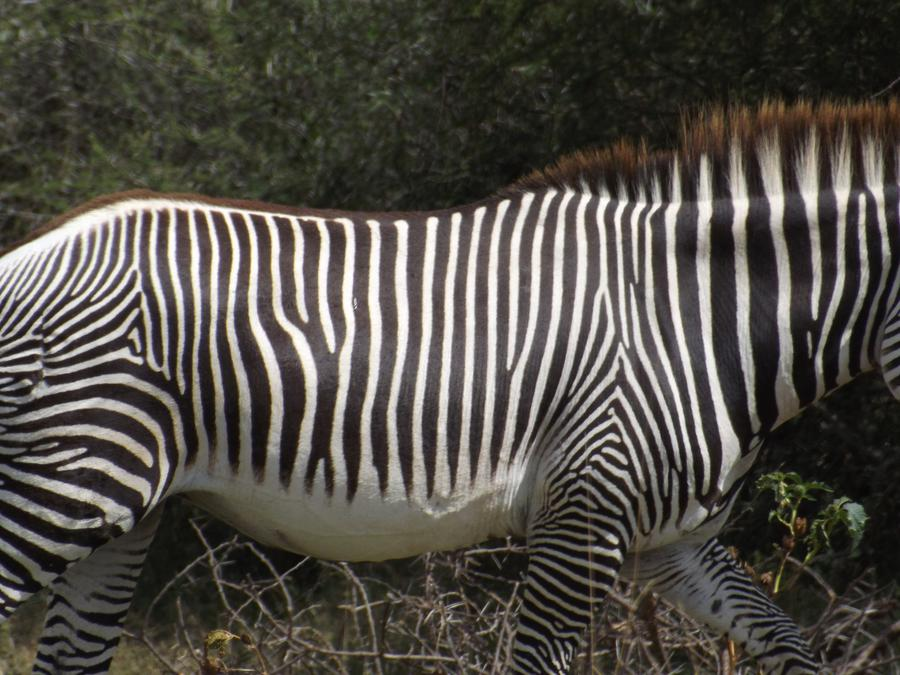zebra_grevys: (2, 161, 699, 547)
